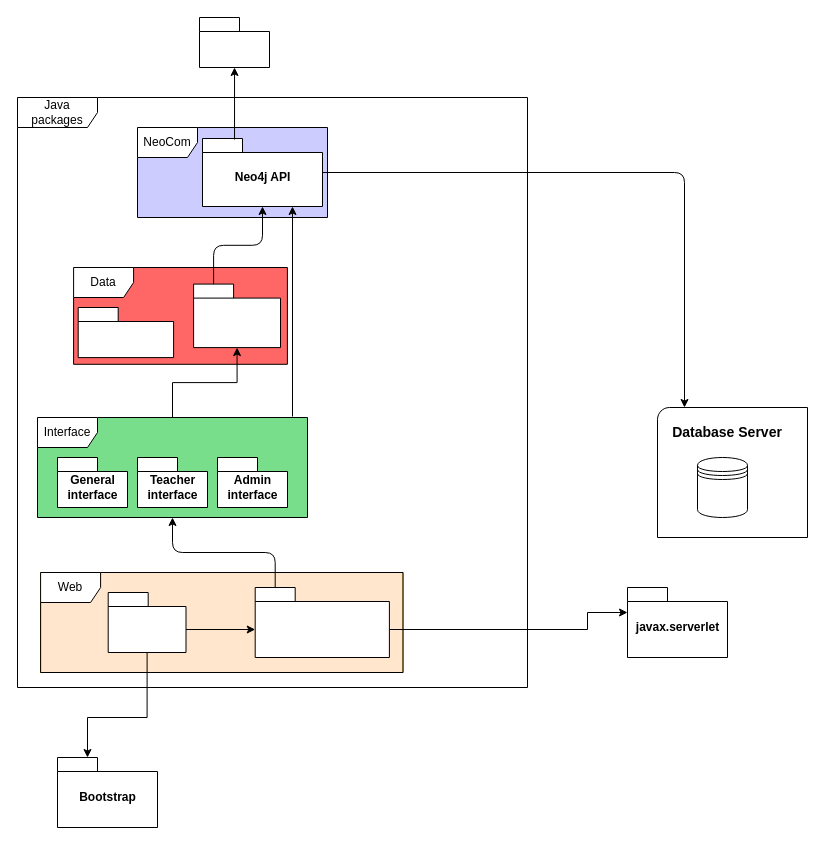
Some shapes in this 825 by 845 pixel diagram are drawn without their labels. The shapes that lost their labels are listed below. From the top down, each one's centre as x and y in pixels, then its label:
At point (234, 42): "org.neo4j".
At point (125, 332): "Types".
At point (236, 315): "Graph".
At point (722, 487): "Neo4j".
At point (146, 622): "Web package".
At point (321, 622): "JSP homepage".
